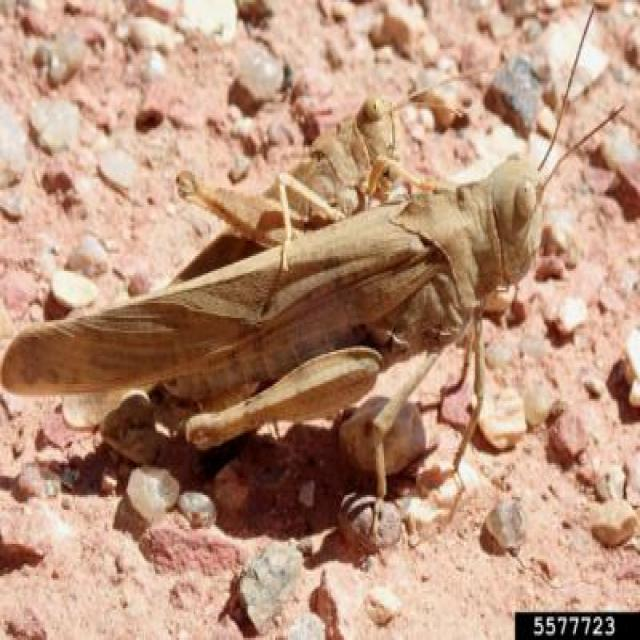antennae: (534, 10, 598, 173), (534, 106, 624, 199)
body: (173, 161, 537, 407)
insect: (0, 5, 627, 526)
legs: (173, 336, 393, 446), (365, 322, 454, 524), (176, 164, 344, 256), (446, 290, 482, 491)
mouthpart: (500, 248, 537, 292)
wings: (4, 214, 408, 396)
